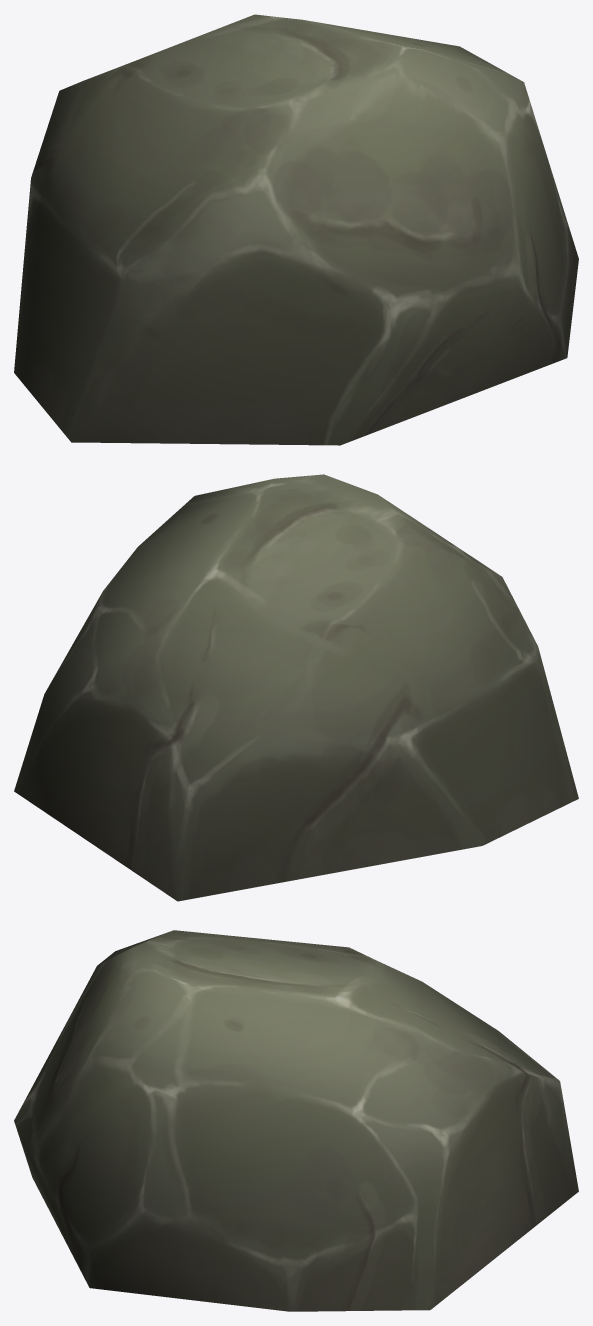
The model's file is Rock_1.FBX.
3 views of the same model, one above another, from view 1: azimuth 30°, elevation 25°; view 2: azimuth 150°, elevation 25°; view 3: azimuth 270°, elevation 25° (orthographic). The views are drawn at different scales.
Visible parts, largest first — view 1: Rock_1; view 2: Rock_1; view 3: Rock_1.
Part boxes in pixels (left/top/right/bottom): Rock_1: left=14, top=14, right=578, bottom=445; Rock_1: left=14, top=474, right=578, bottom=901; Rock_1: left=14, top=930, right=578, bottom=1311.
Size of what is drawn, in the model's own units: 313 by 342 by 175.
